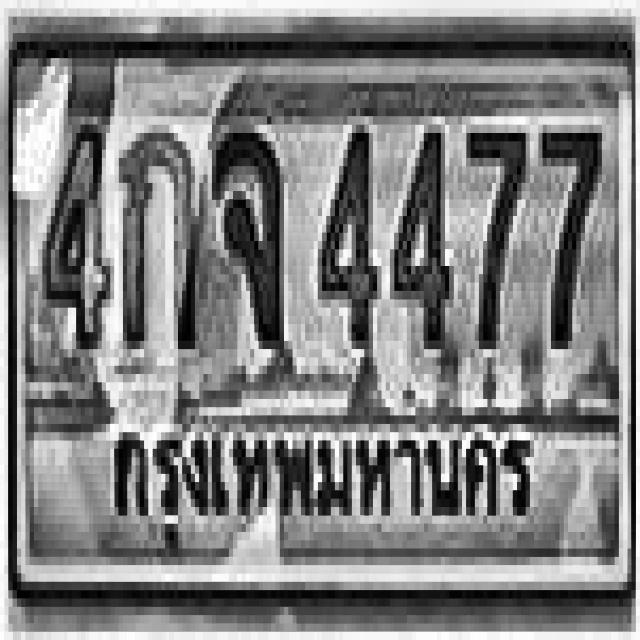license-plate: (11, 36, 633, 610)
